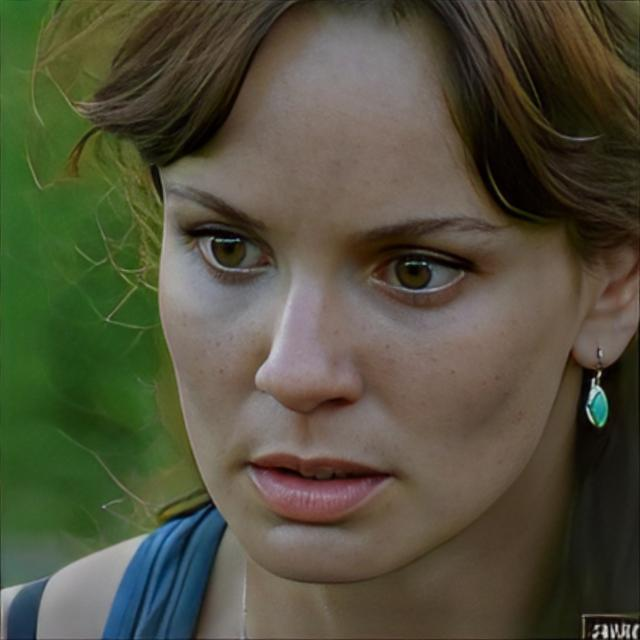fear: (156, 2, 574, 586)
